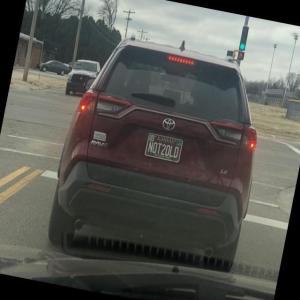Plate: (144, 132, 184, 163)
